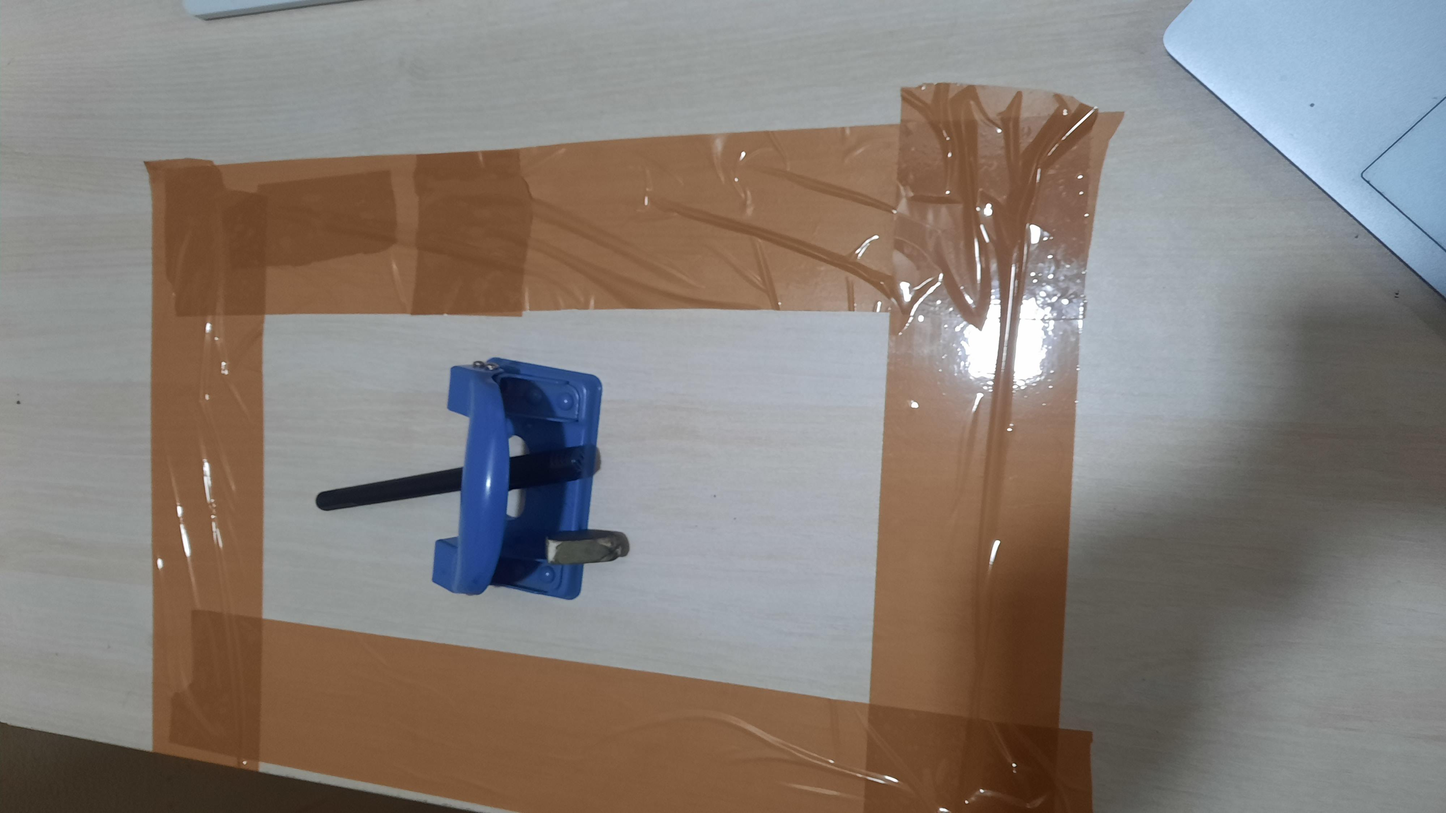Eraser: (546, 529, 630, 566)
Pen: (315, 444, 600, 512)
Punch: (431, 357, 603, 601)
